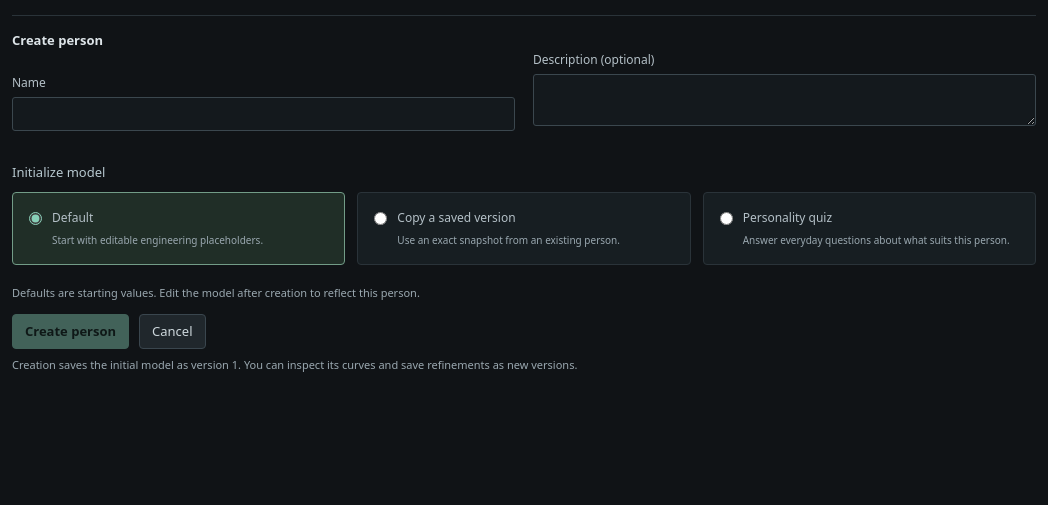
person initialization choices › offers retry for source failures and leaves creation disabled until loaded
In the field labelled "Name": coordinates (264, 114) [12,96,515,130], type "New person"
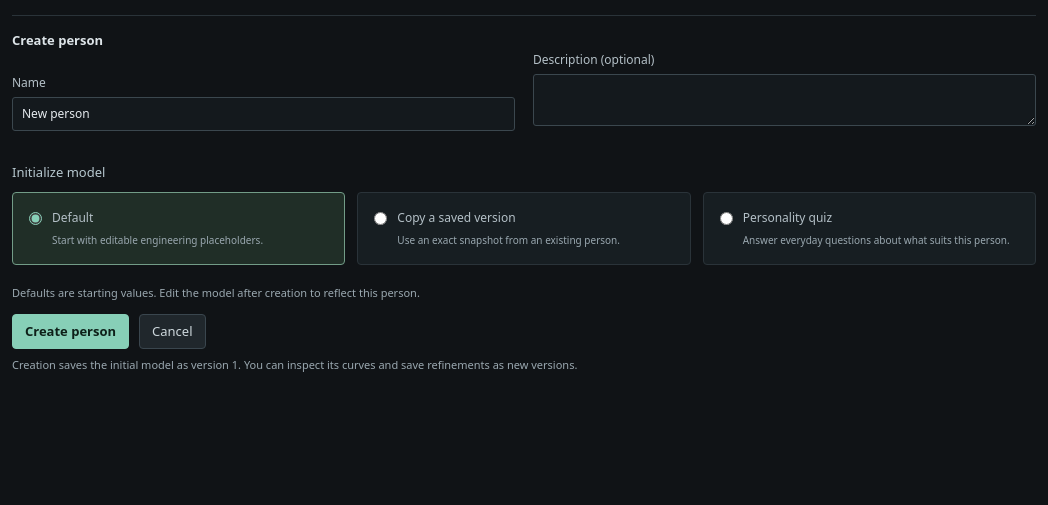
Click the radio button labelled "Copy a saved version": coordinates (381, 218) [374,212,387,225]
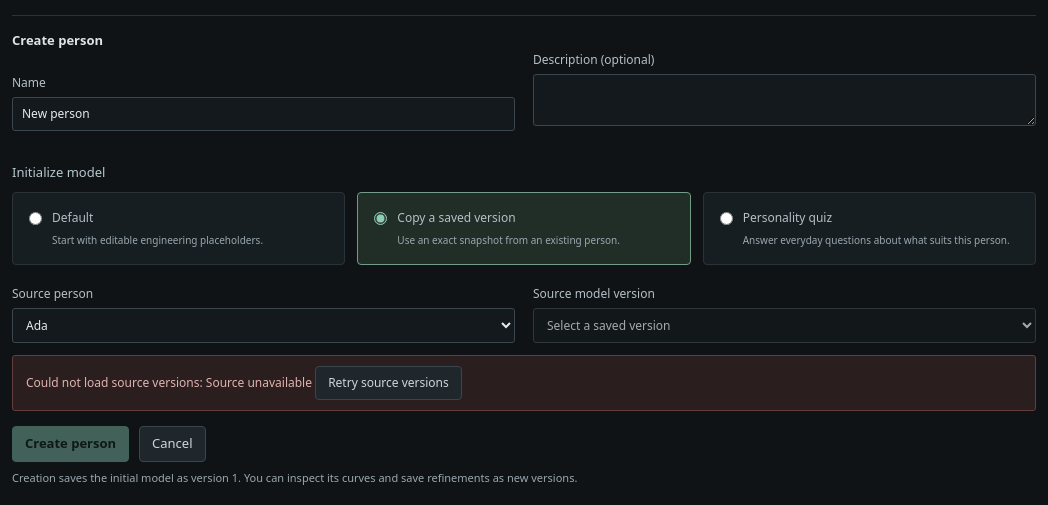
Now the message shows "Source unavailable", box [206,374,312,391]
Now the button "Create person" is disabled, box [12,426,129,462]
Click the button "Retry source versions": coordinates (388, 383) [315,366,462,400]
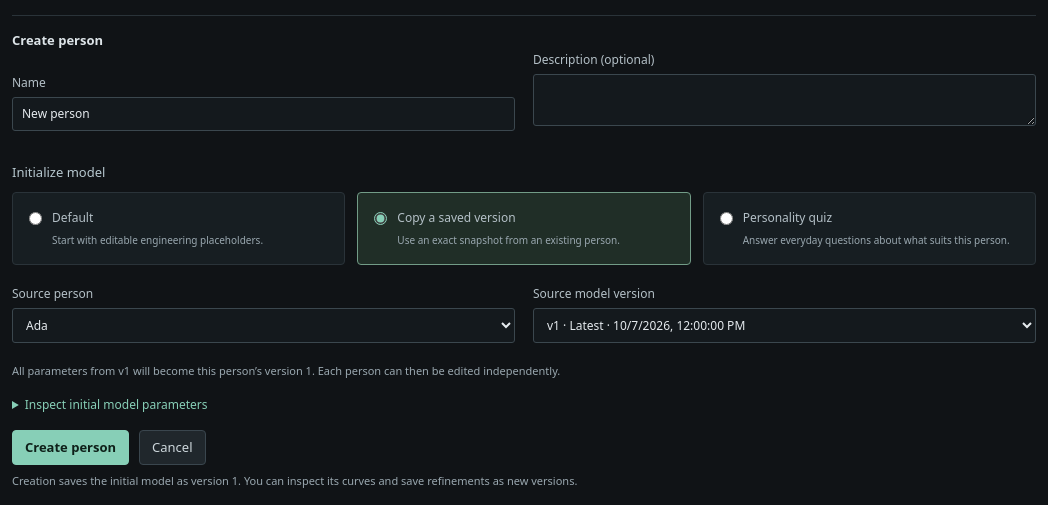
Now the button "Create person" is enabled, box [12,430,129,465]
